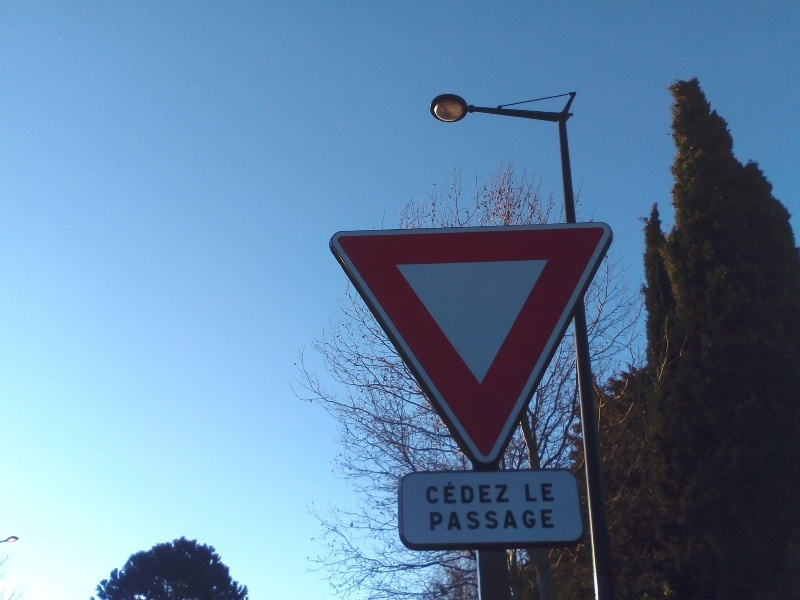text: (433, 508, 448, 532), (449, 508, 464, 532), (465, 508, 480, 532), (481, 508, 496, 532), (497, 508, 512, 532), (513, 508, 528, 532), (529, 508, 544, 532), (433, 481, 448, 504), (449, 481, 464, 504), (465, 481, 480, 504), (481, 481, 496, 504), (497, 481, 511, 504), (529, 483, 544, 502), (545, 508, 556, 532), (545, 483, 556, 502), (427, 481, 432, 504), (524, 483, 528, 502), (429, 508, 432, 532)
